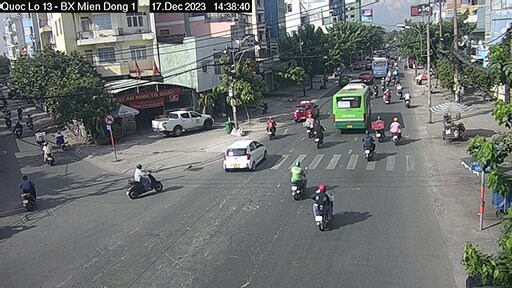bus: (332, 85, 373, 128), (370, 55, 388, 79)
car: (152, 111, 210, 134), (224, 140, 264, 171)
motorbike: (121, 164, 168, 199), (356, 125, 378, 165), (312, 176, 330, 222), (290, 157, 307, 203), (17, 175, 39, 207), (386, 116, 402, 142), (310, 122, 324, 147)
